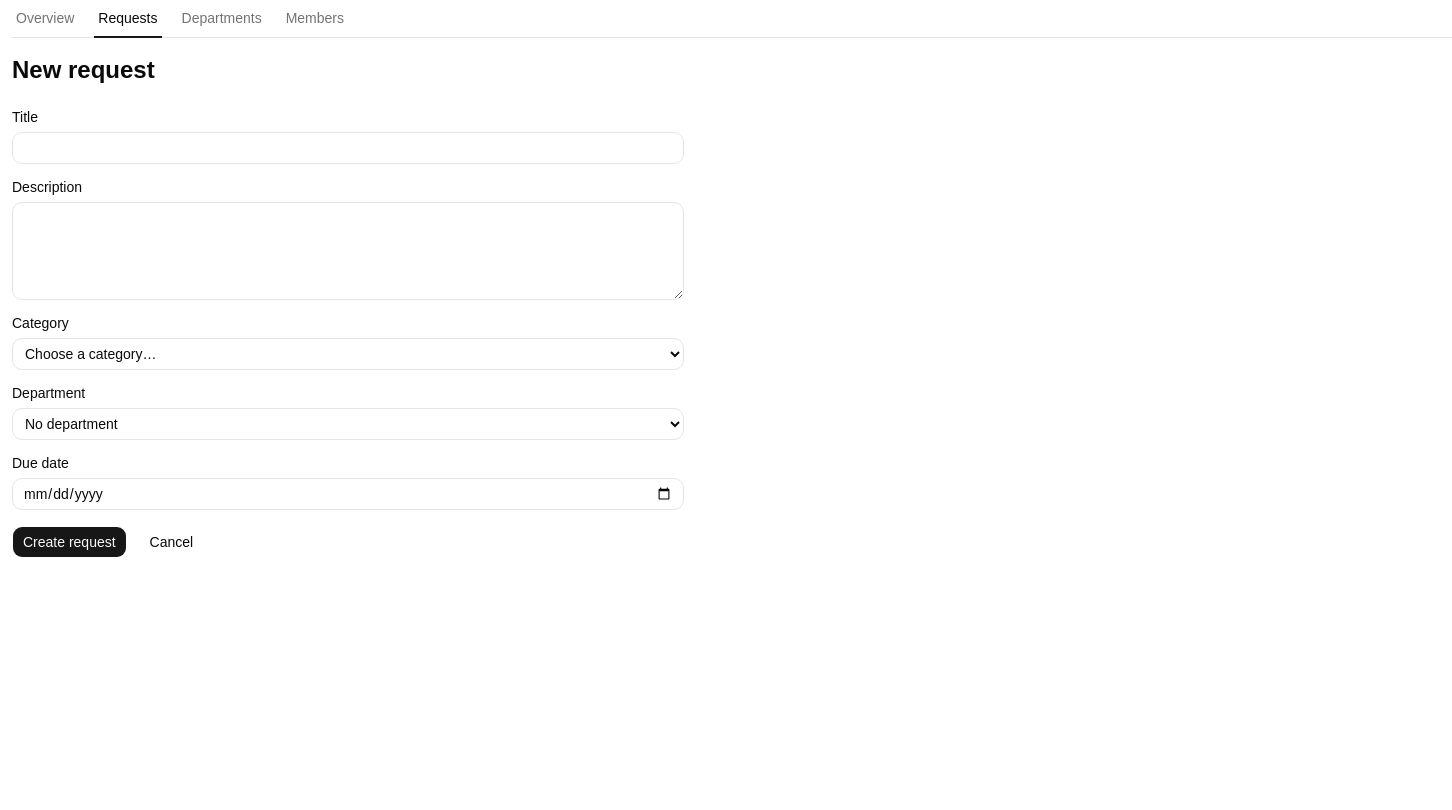
Test: RequestFormPage (new) › shows a server-side date error under the due date
The width and height of the screenshot is (1452, 810).
Step 1. Type "Laptop" into the field labelled "Title" → coordinates (348, 148), box top-left (12, 132), bottom-right (684, 164)
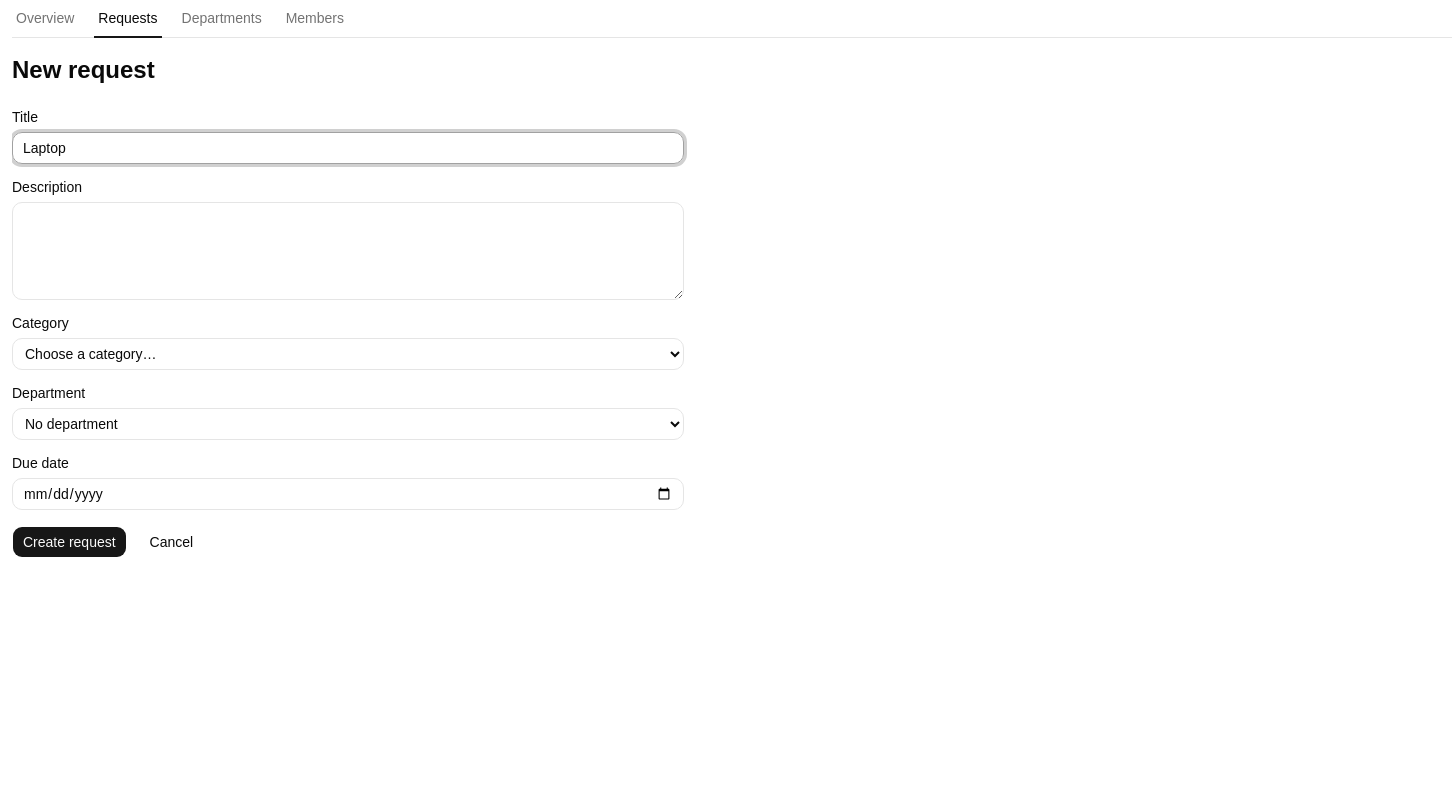
Step 2. Select "HR" in the dropdown labelled "Category" → coordinates (348, 354), box top-left (12, 338), bottom-right (684, 370)
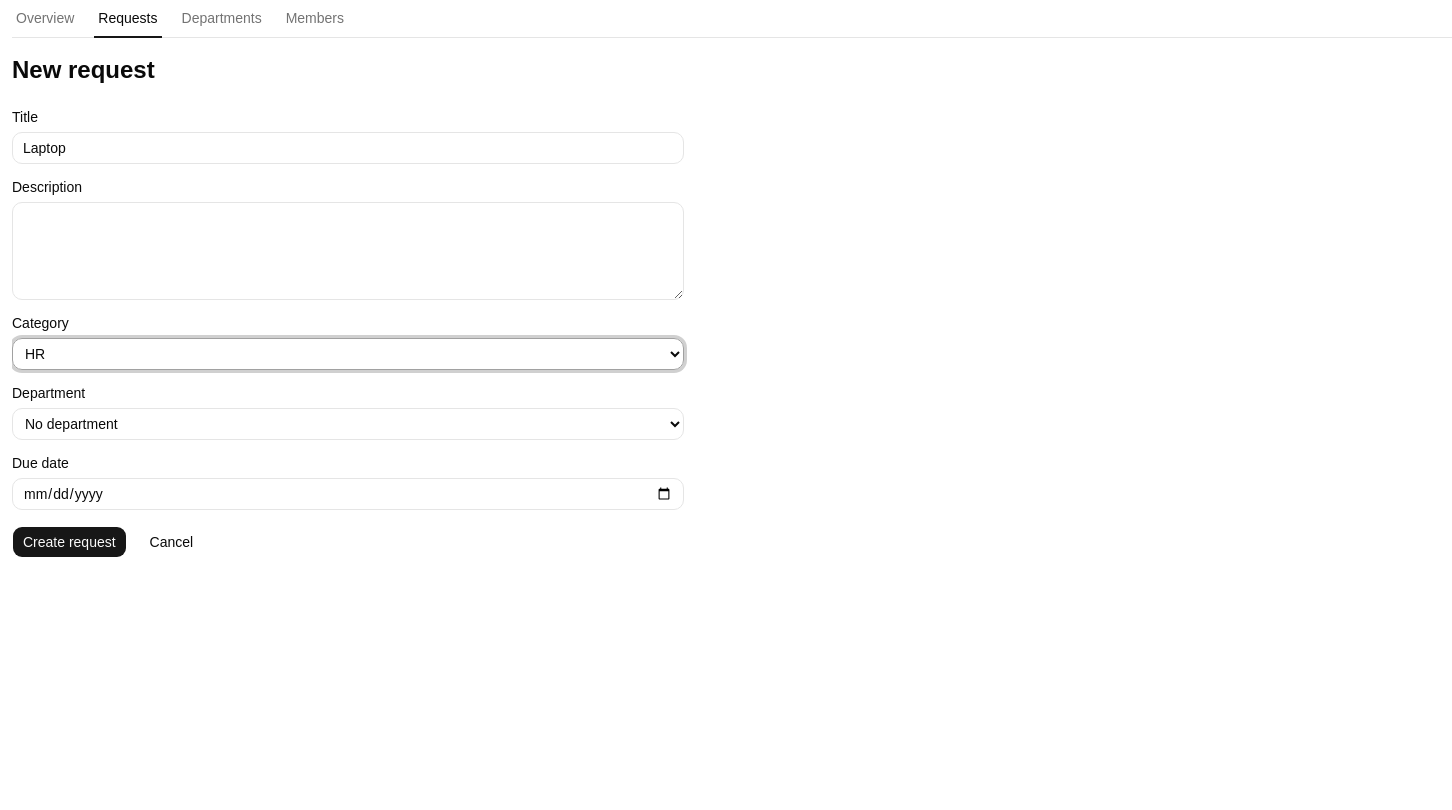
Step 3. Type "2020-01-01" into the date field labelled "Due date" → coordinates (348, 494), box top-left (12, 478), bottom-right (684, 510)
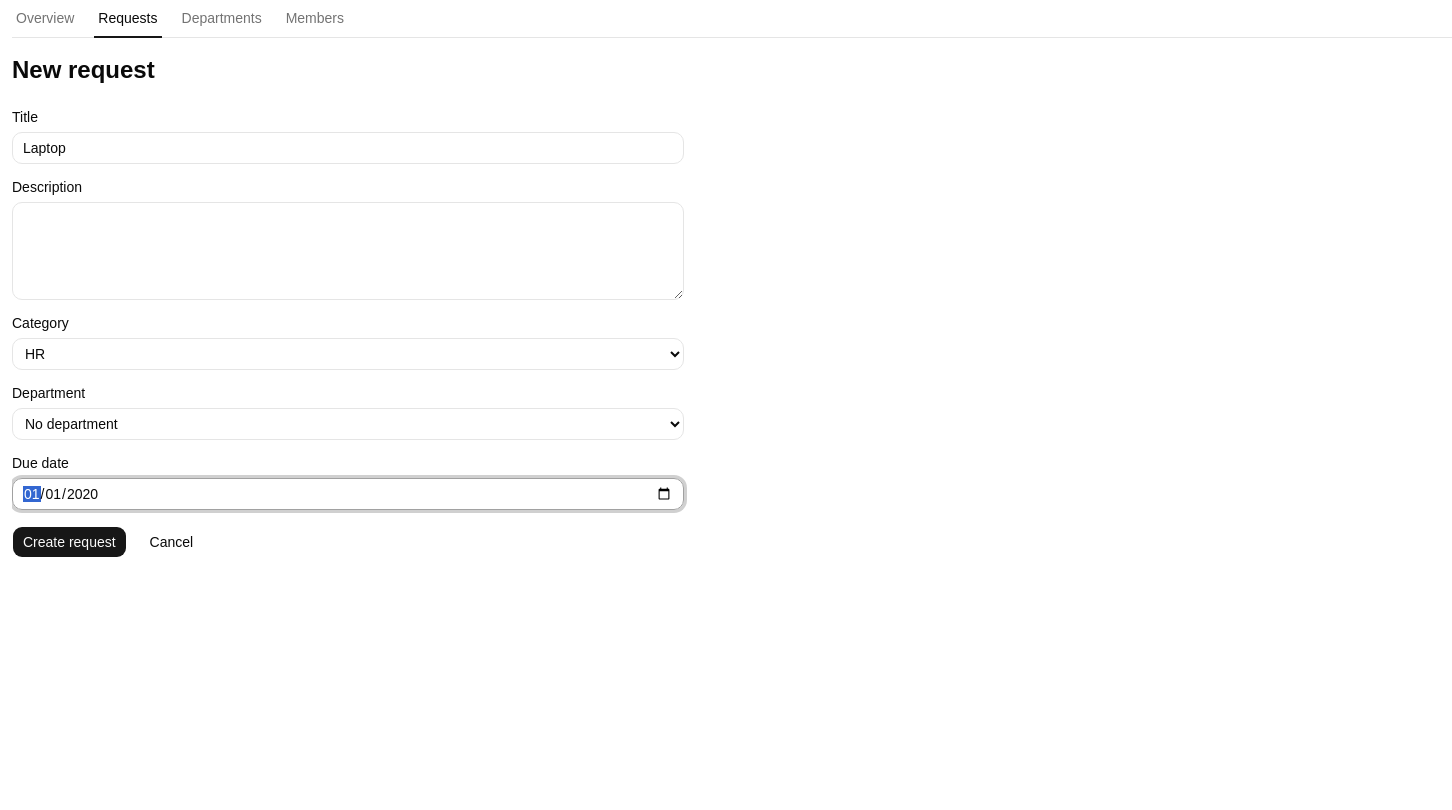
Step 4. Click the button "Create request" → coordinates (69, 542), box top-left (12, 526), bottom-right (127, 558)
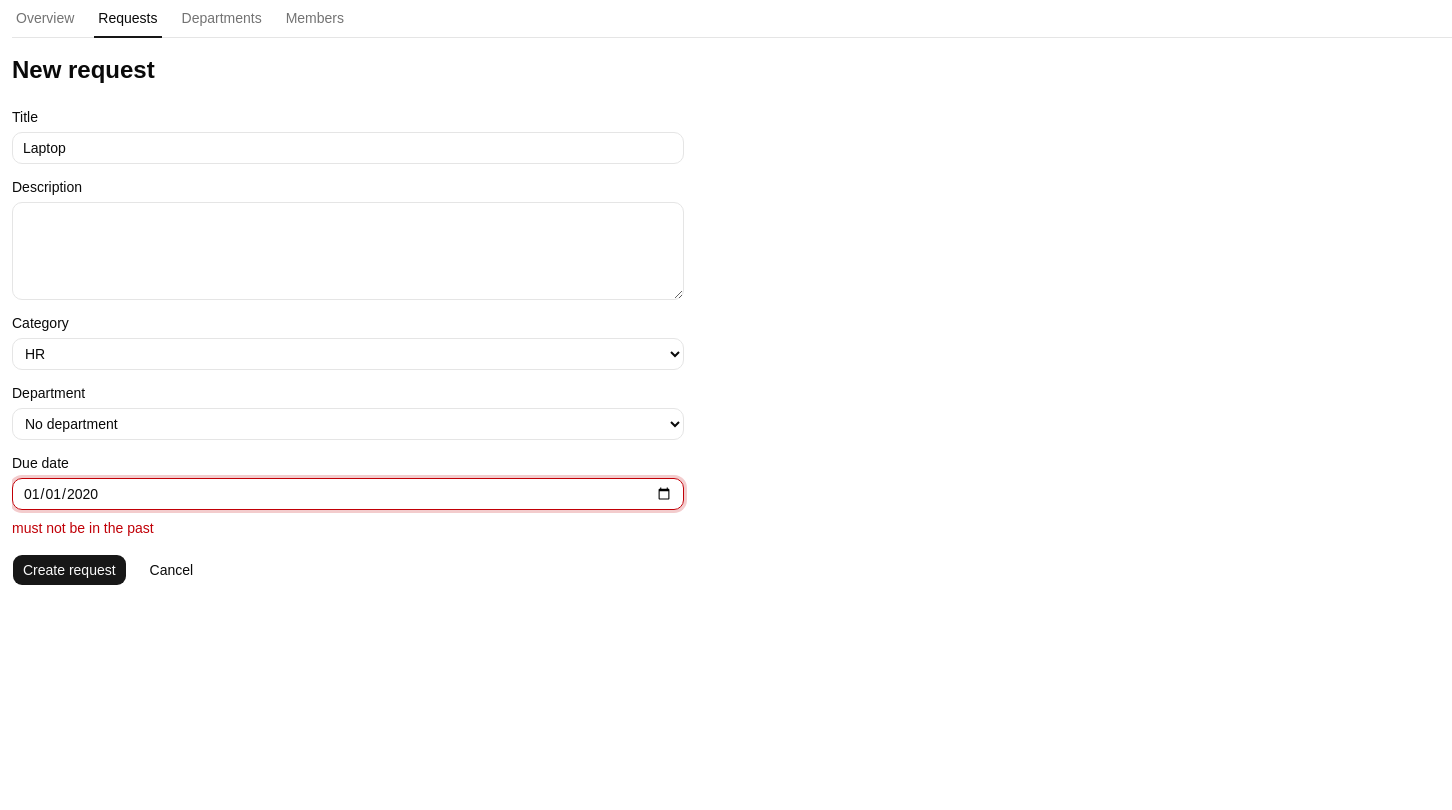
Check: the text "must not be in the past" is shown, box top-left (12, 520), bottom-right (154, 536)
